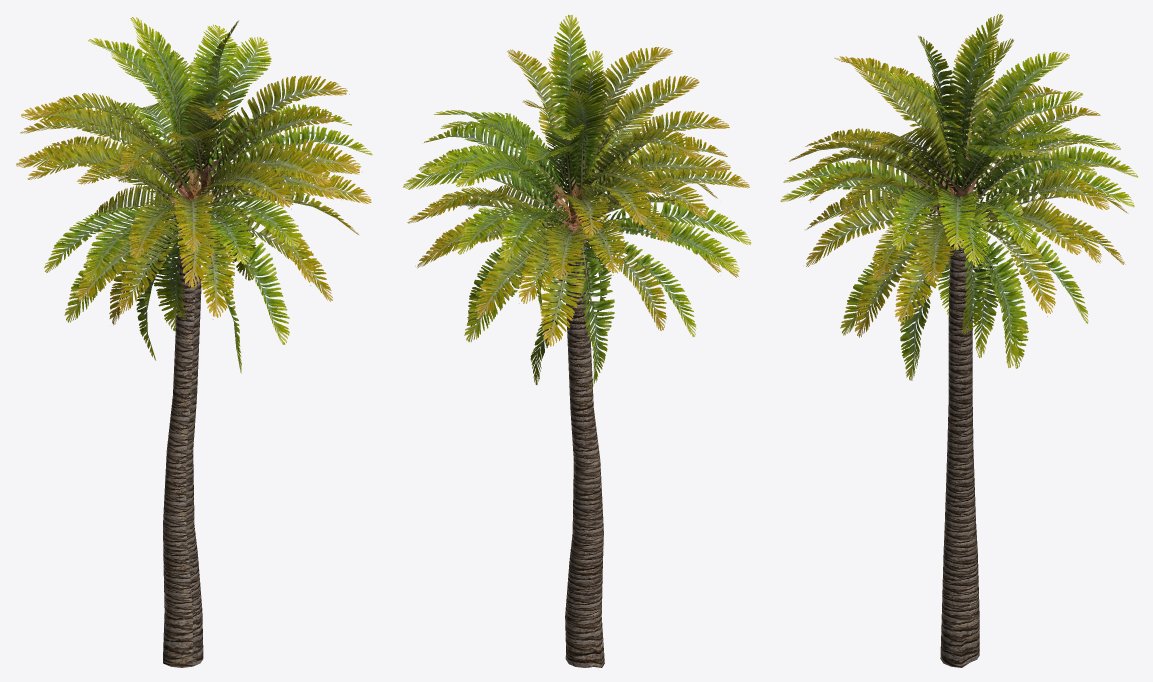
The model's file is Palm_tree-v1.glb.
3 renders of one model, left to right at view 1: azimuth 30°, elevation 25°; view 2: azimuth 150°, elevation 25°; view 3: azimuth 270°, elevation 25°, orthographic. The views are drawn at different scales.
Parts seen in each view (by area): view 1: palm.001; view 2: palm.001; view 3: palm.001.
Boxes of the visible parts, left/top/right/bottom form: palm.001: left=16, top=17, right=372, bottom=667; palm.001: left=403, top=14, right=751, bottom=667; palm.001: left=780, top=14, right=1138, bottom=667.
Bounding box in the file's own units: 3.68 × 7.16 × 3.63.
1 material, 1 textured.
